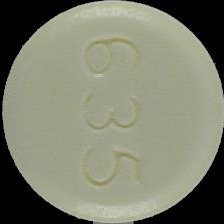52125-841: (0, 0, 224, 224)
